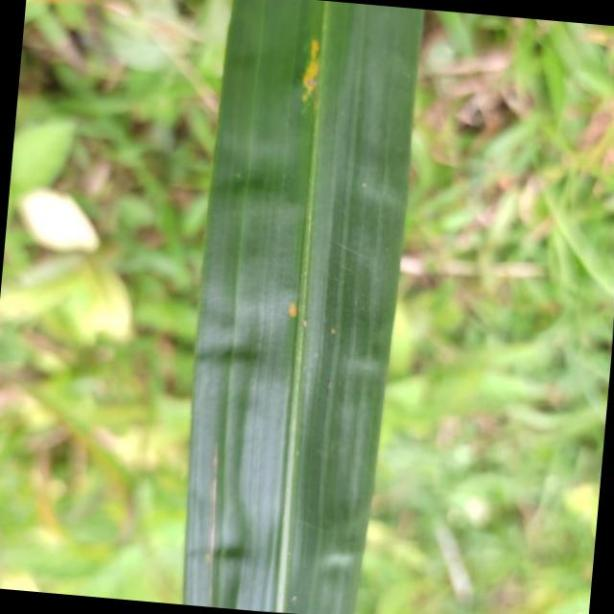Boron: (182, 0, 426, 614)
